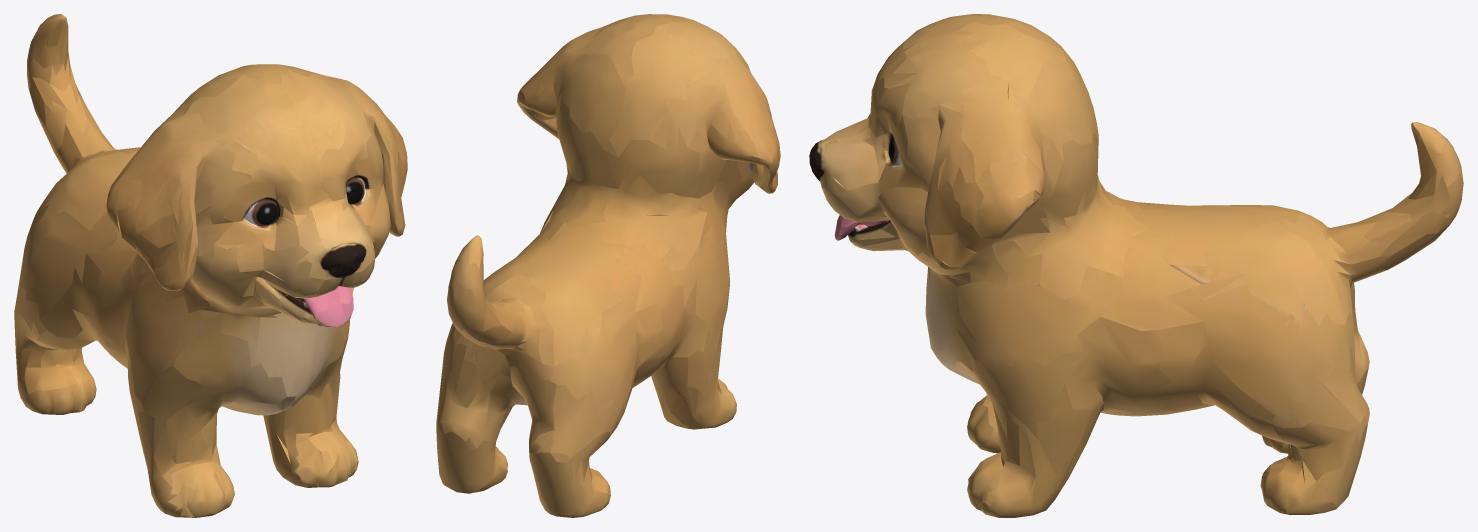
Rendered from pet_dog.glb.
3 renders of one model, left to right at view 1: azimuth 30°, elevation 25°; view 2: azimuth 150°, elevation 25°; view 3: azimuth 270°, elevation 25°, orthographic. The views are drawn at different scales.
Visible parts, largest first — view 1: Mesh_0; view 2: Mesh_0; view 3: Mesh_0.
Boxes of the visible parts, x1,y1,x2,y2 form: Mesh_0: (14,14,407,517); Mesh_0: (436,14,780,517); Mesh_0: (809,14,1463,517).
Size of the model in its own units: 0.3239 by 0.45 by 0.6003.
1 material, 1 textured.
